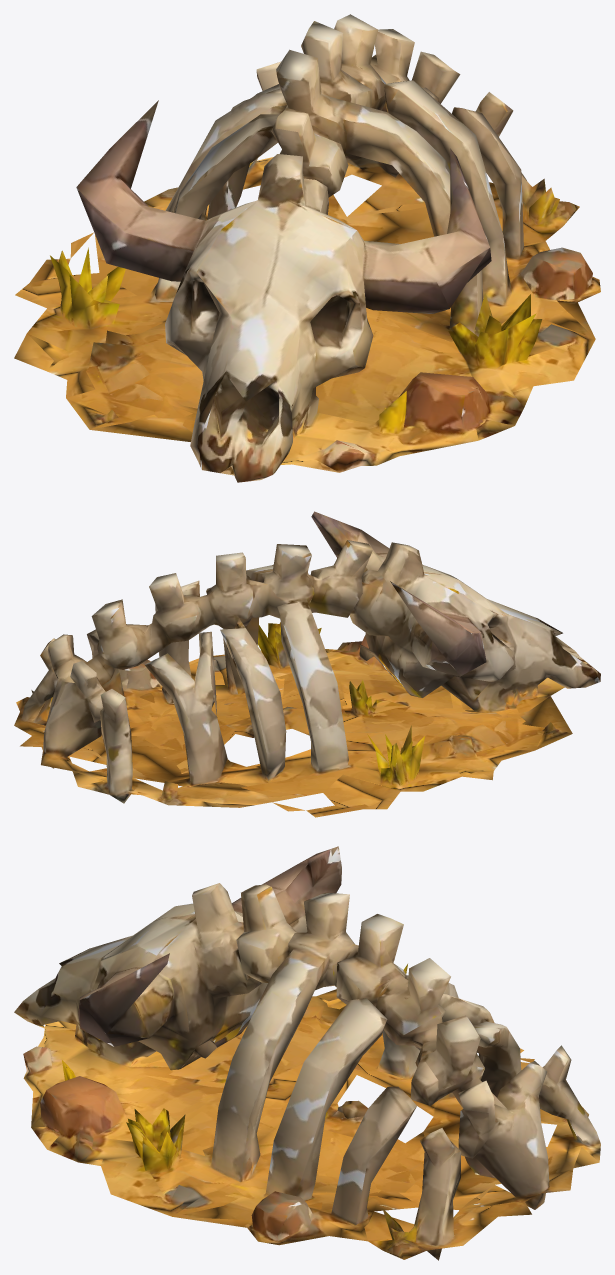
Rendered from dec_bones.glb.
3 renders of one model, top to bottom at view 1: azimuth 30°, elevation 25°; view 2: azimuth 150°, elevation 25°; view 3: azimuth 270°, elevation 25°, orthographic. The views are drawn at different scales.
Parts seen in each view (by area): view 1: BakeLow; view 2: BakeLow; view 3: BakeLow.
Part boxes in pixels (left/top/right/bottom): BakeLow: left=14, top=14, right=600, bottom=482; BakeLow: left=14, top=511, right=600, bottom=817; BakeLow: left=14, top=846, right=600, bottom=1260.
Size of the model in its own units: 0.8912 by 0.3803 by 0.8365.
Materials: 1 (1 with a texture image).
